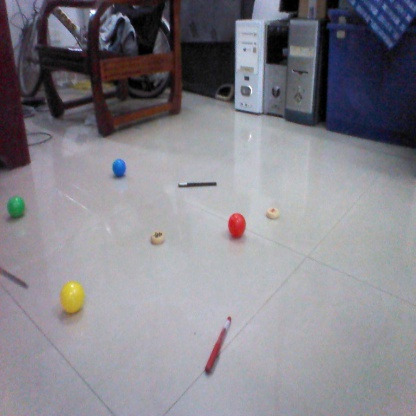ball: (60, 283, 86, 314), (224, 214, 250, 241), (2, 194, 27, 219), (111, 157, 129, 178)
chess: (263, 205, 283, 221), (151, 232, 168, 245)
pen: (201, 315, 234, 374), (1, 267, 27, 289), (177, 179, 218, 189)
